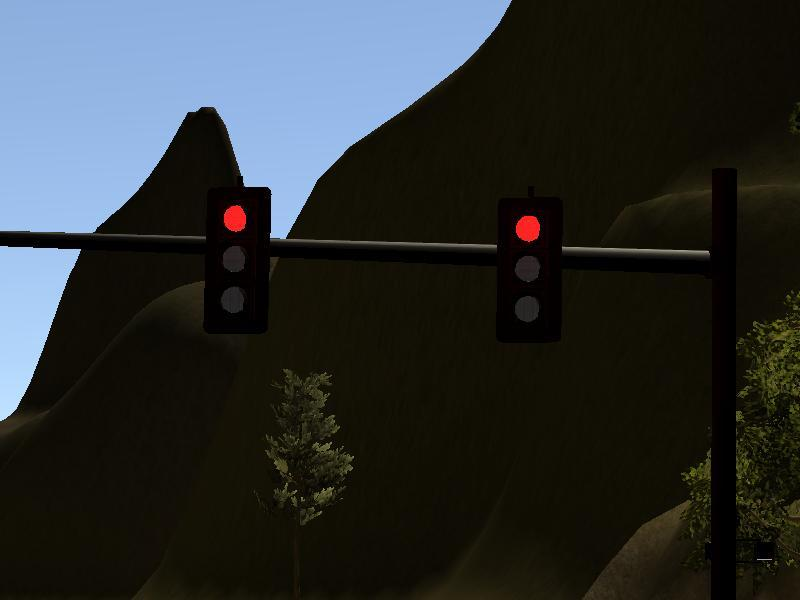Red: (496, 199, 561, 344), (205, 187, 269, 334)
